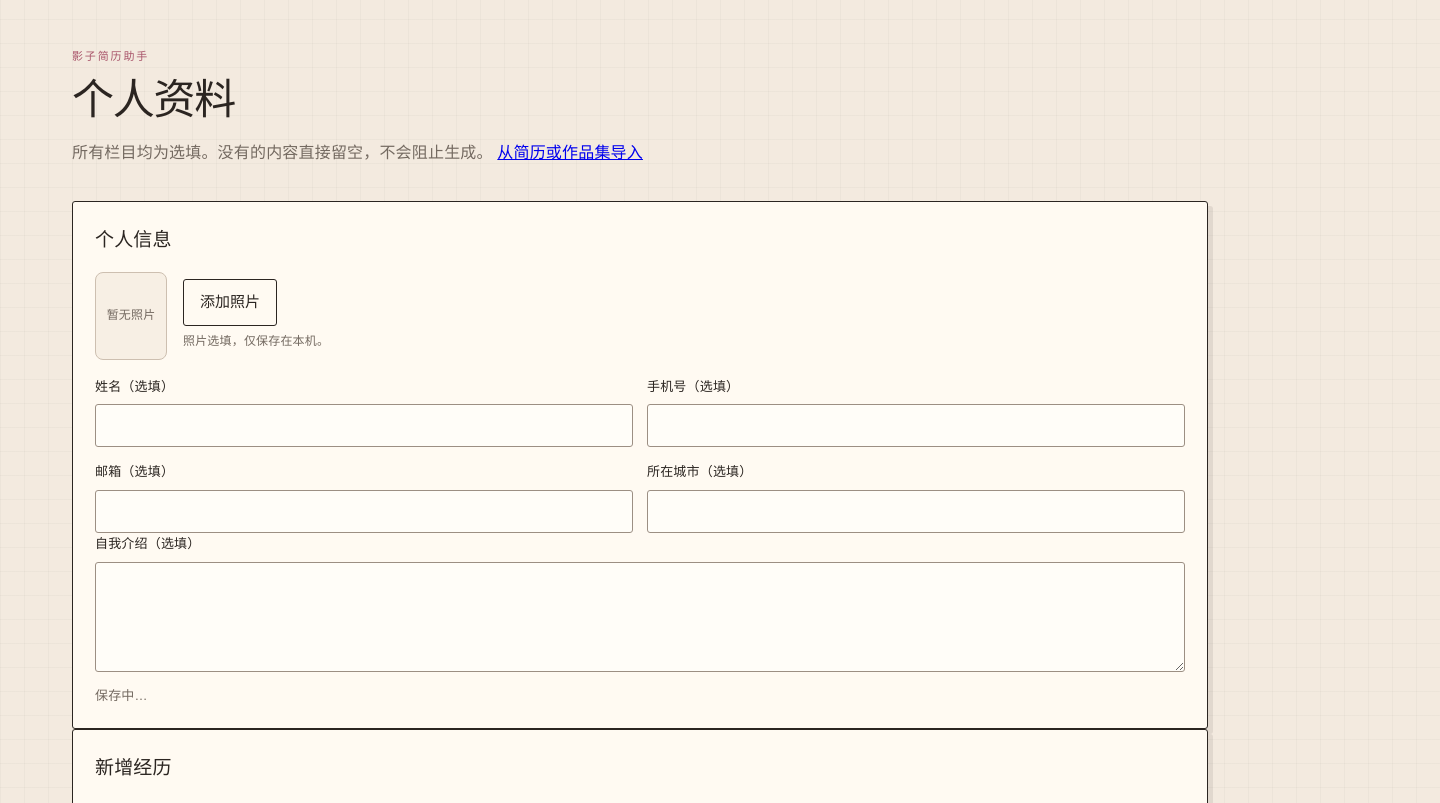
Scenario: profile fields are optional and a free-form entry can be added
This screenshot has width=1440, height=803.
Click the button "添加照片".
click(230, 303)  # box [183,279,277,326]
(page scrolled)
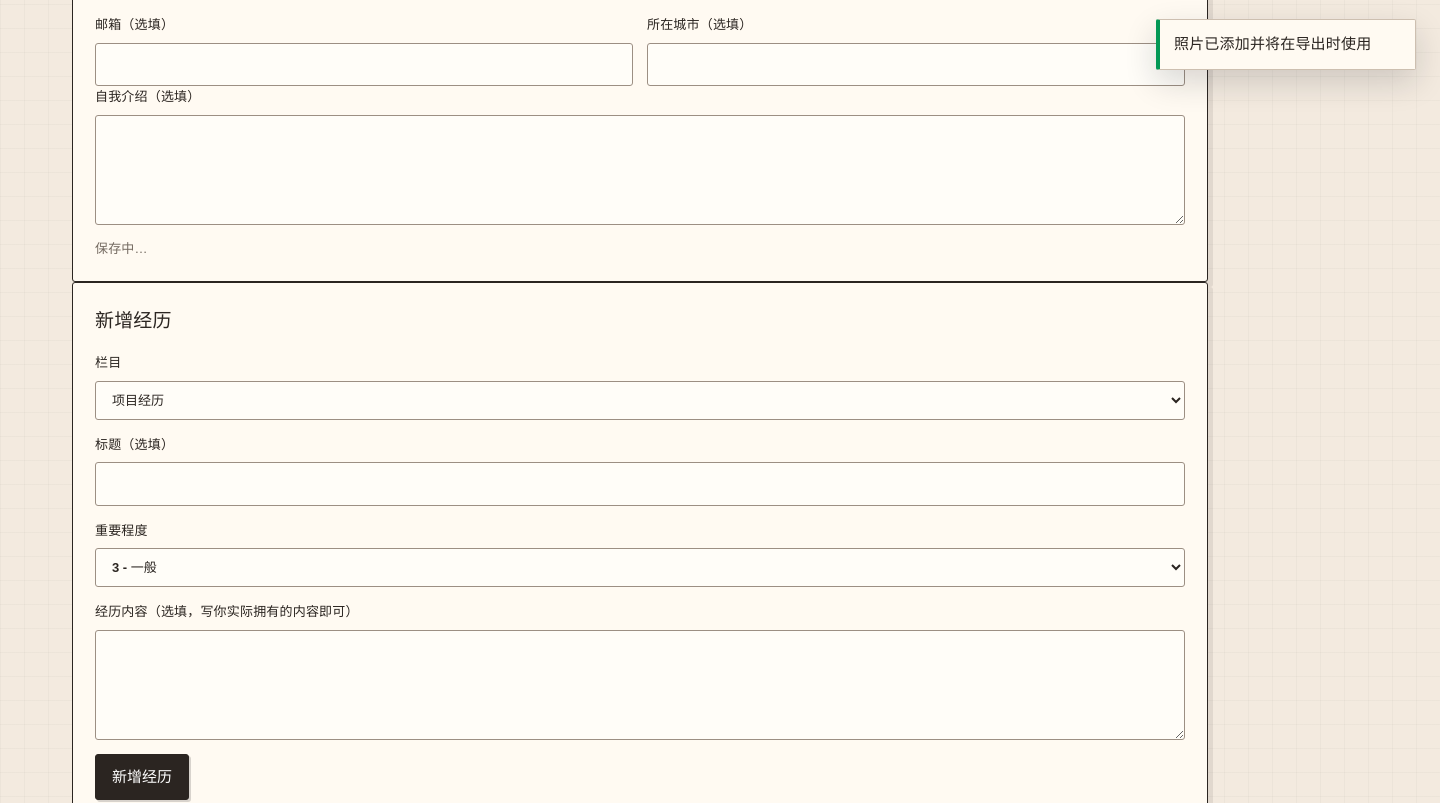
Select "其他自定义经历或成果" in the dropdown labelled "栏目" at x=640, y=400, box [95,381,1185,420]
Type "开源社区" into the field labelled "标题（选填）".
click(640, 484); type("开源社区")  # box [95,462,1185,506]
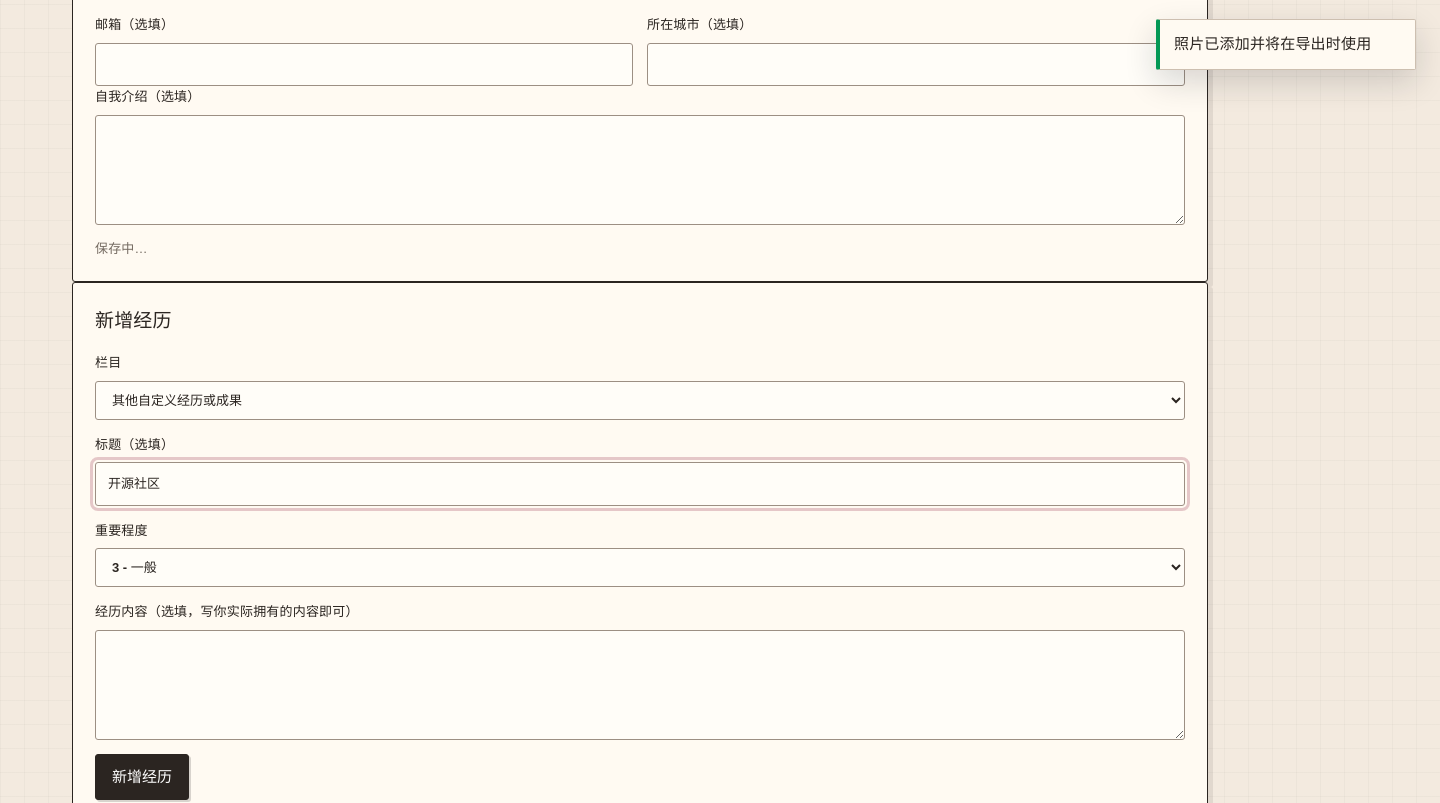
Type "维护中文文档" into the text box labelled "经历内容（选填，写你实际拥有的内容即可）".
click(640, 684); type("维护中文文档")  # box [95,630,1185,740]
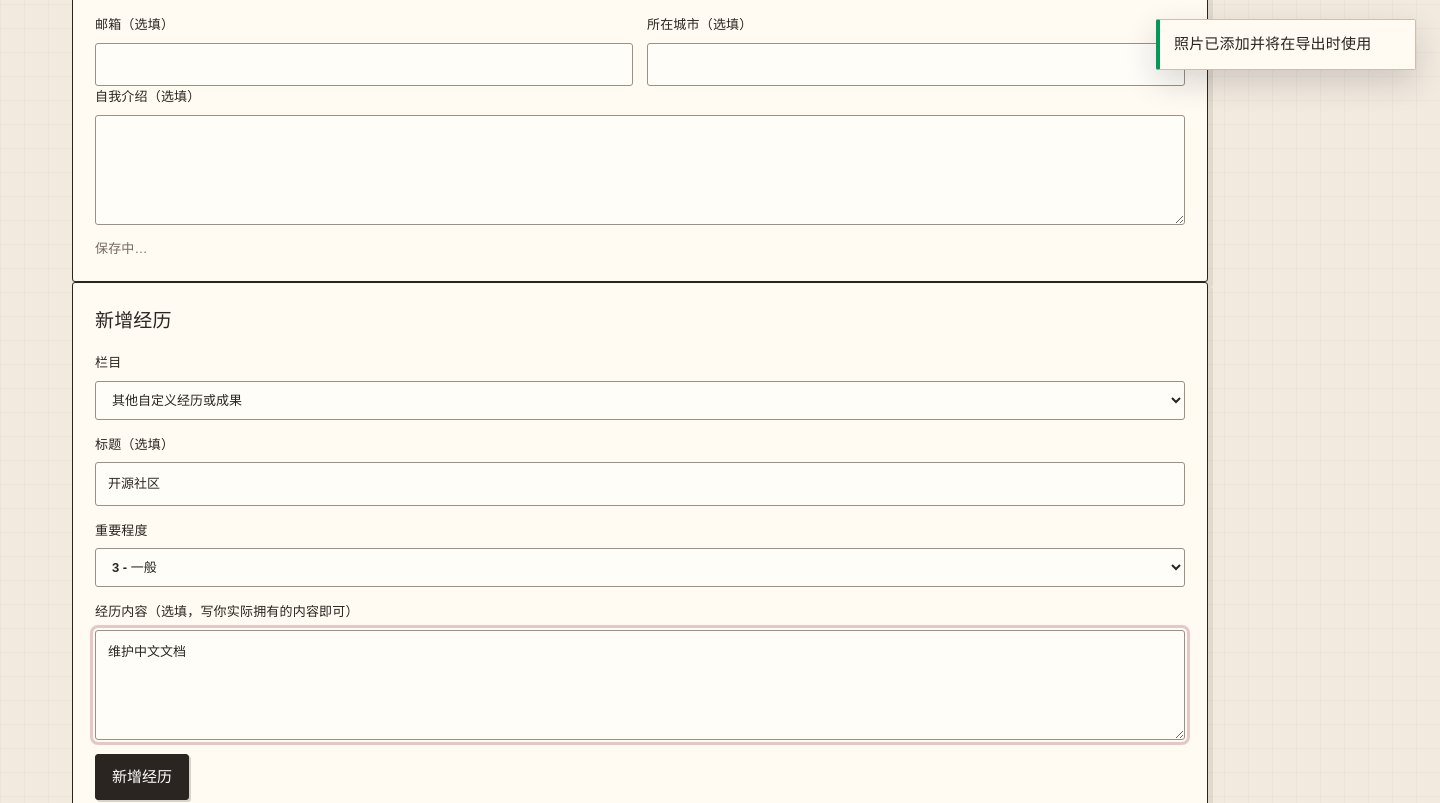
Select "5 - 最高" in the dropdown labelled "重要程度" at x=640, y=568, box [95,548,1185,587]
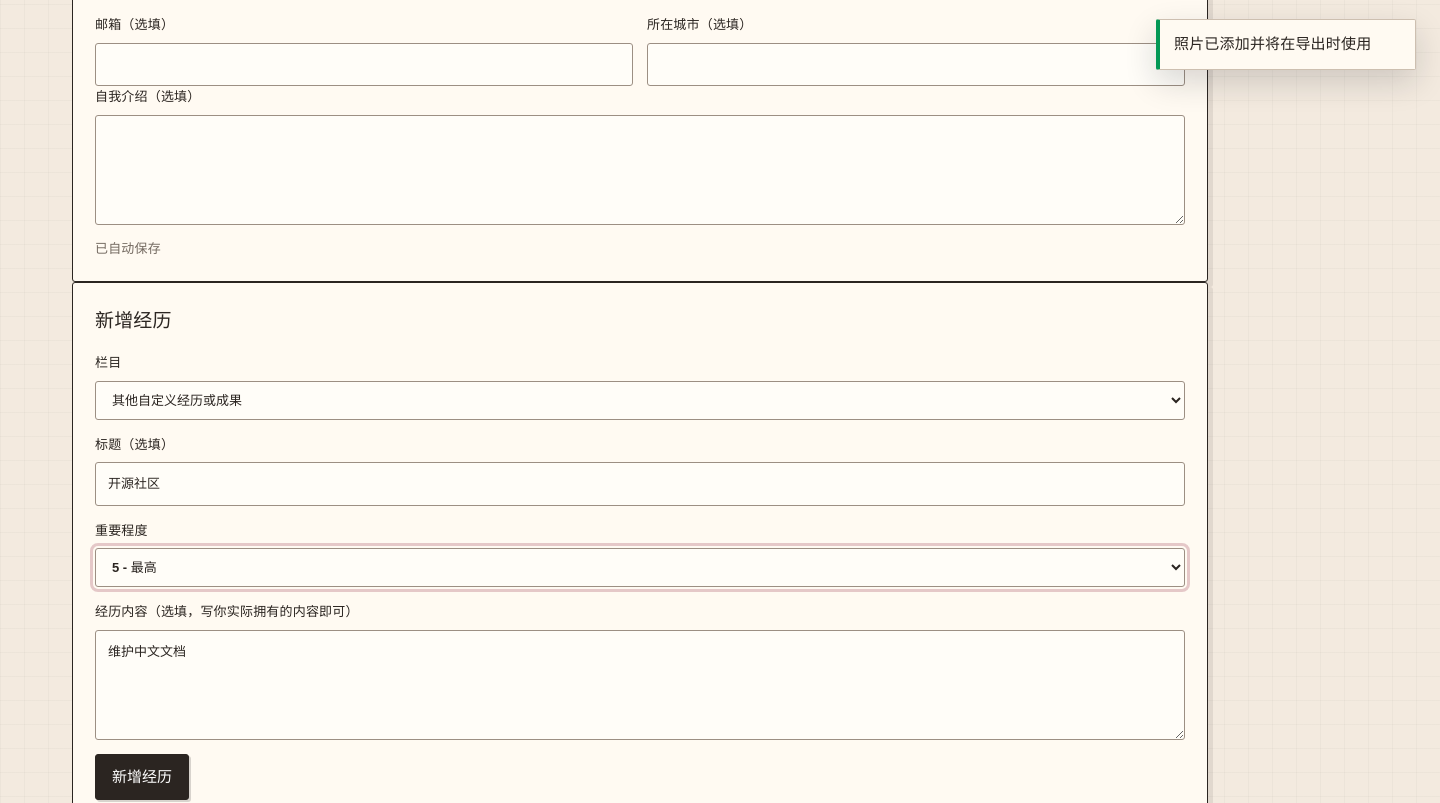
Click the button "新增经历".
click(142, 777)  # box [95,754,189,800]
(page scrolled)
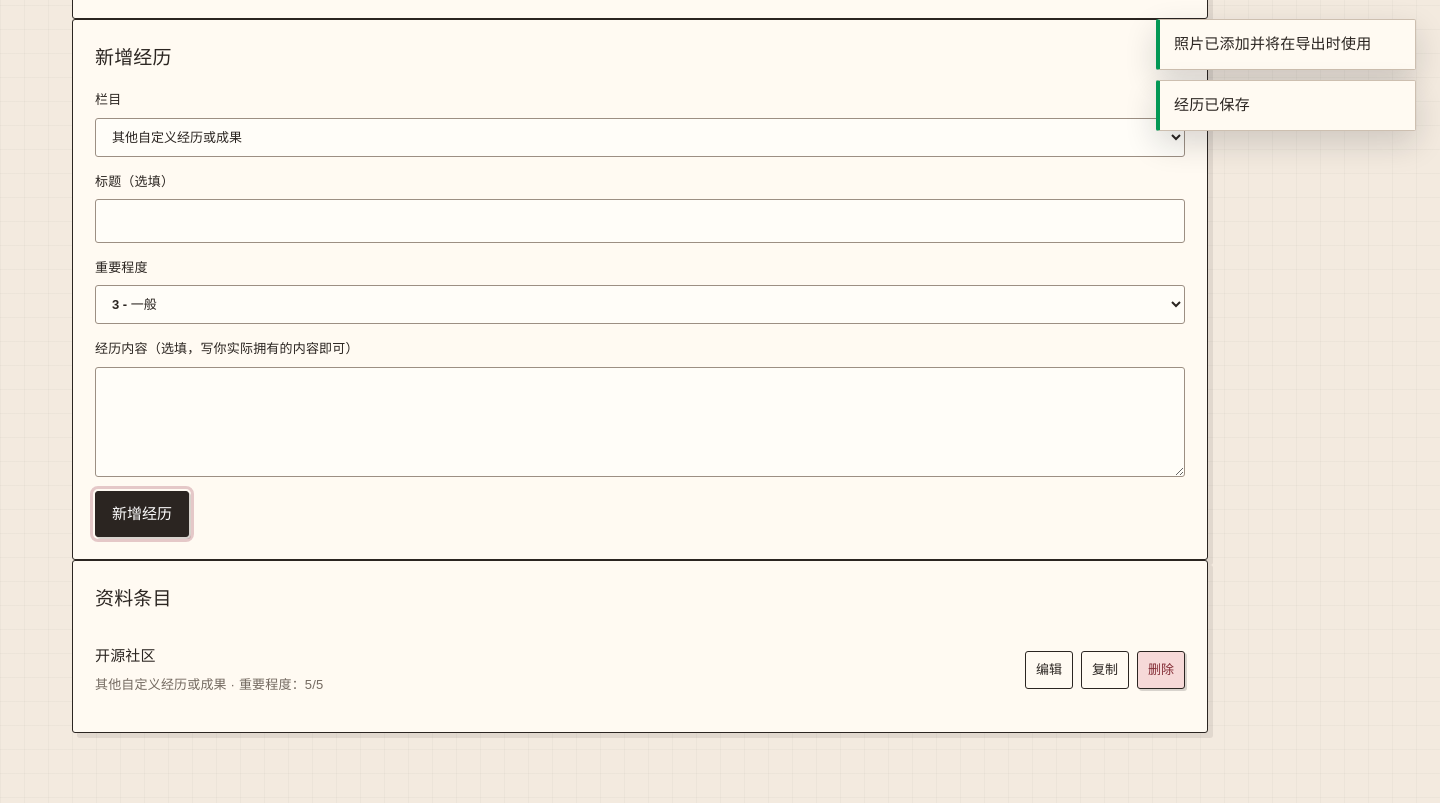
expect the text "开源社区" is shown: met, box [95,647,156,664]
expect the text "其他自定义经历或成果 · 重要程度：5/5" is shown: met, box [95,674,323,696]
Click the button "编辑".
click(1049, 670)  # box [1025,651,1073,689]
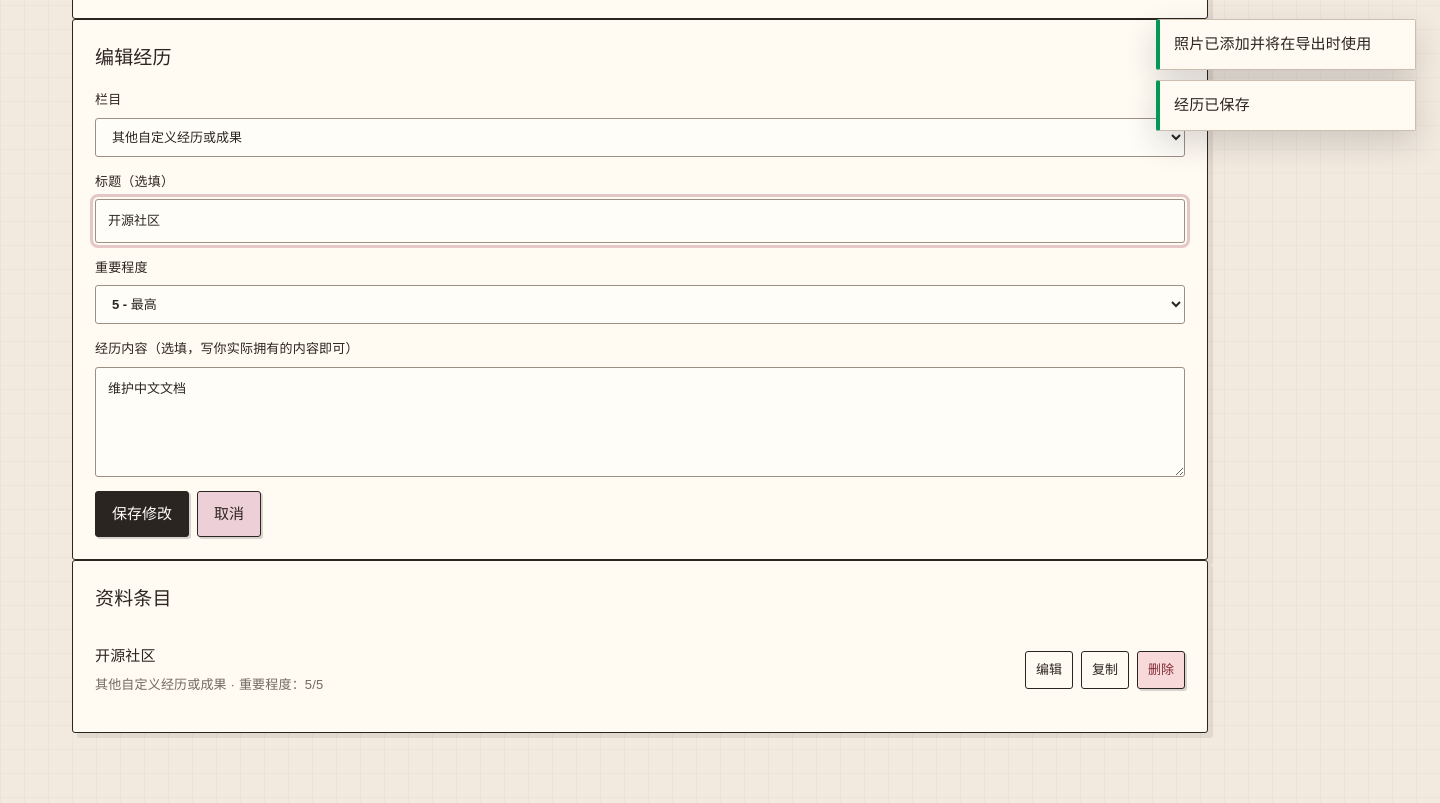
expect the heading "编辑经历" is shown: met, box [95,47,172,68]
